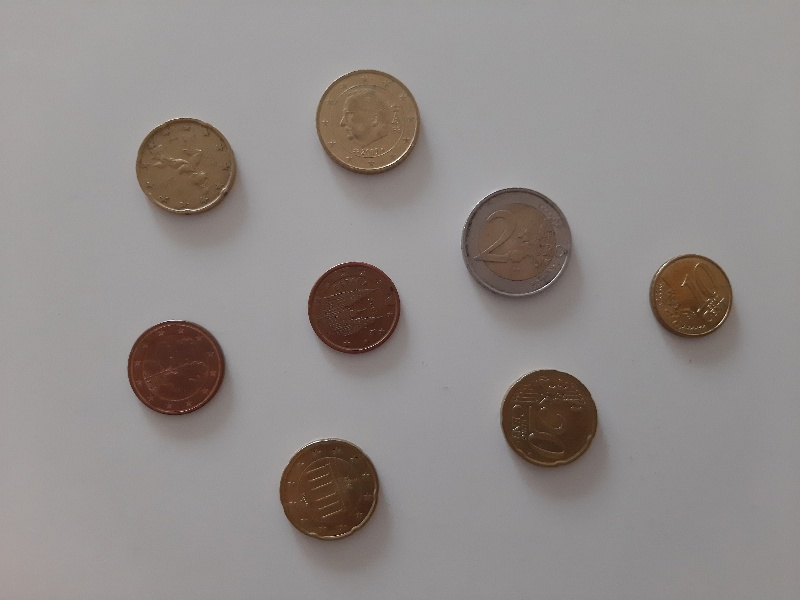10 cent: (646, 251, 734, 341)
2 euro: (458, 187, 575, 301)
20 cent: (272, 434, 382, 544), (131, 116, 240, 216), (499, 368, 601, 470)
5 cent: (124, 318, 231, 420), (305, 255, 403, 357)
50 cent: (313, 64, 424, 178)
